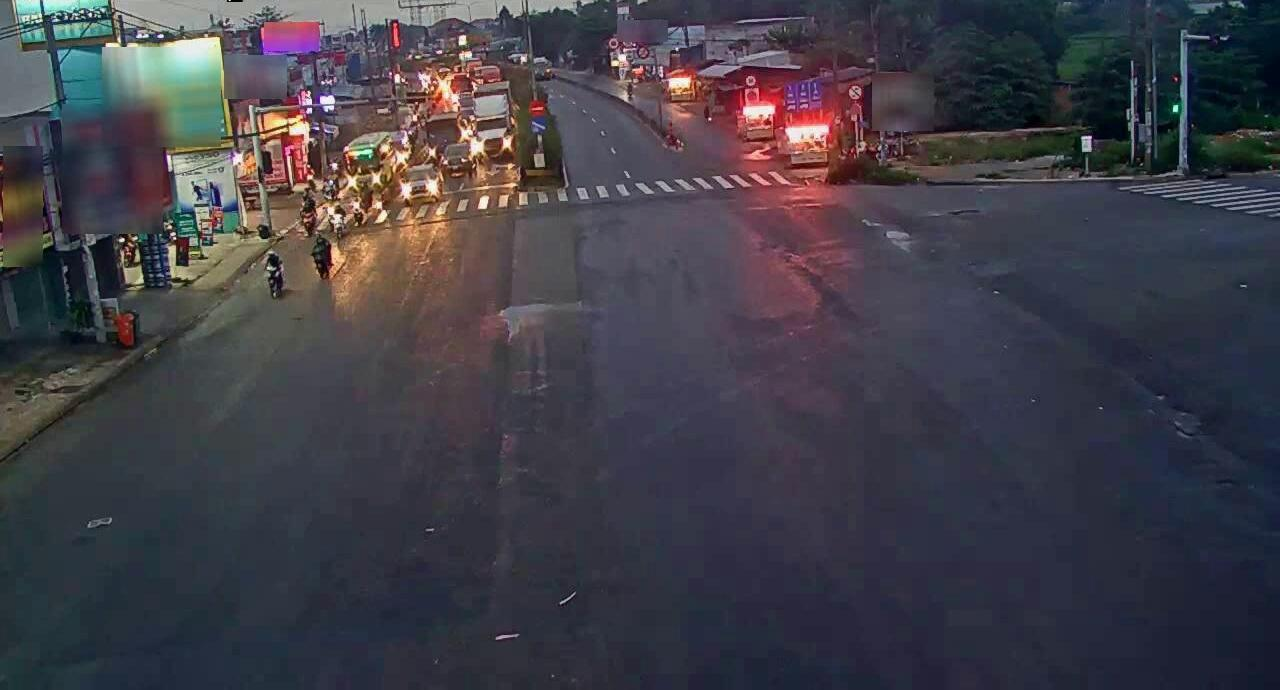xe may: (308, 224, 335, 280), (260, 246, 289, 298)
